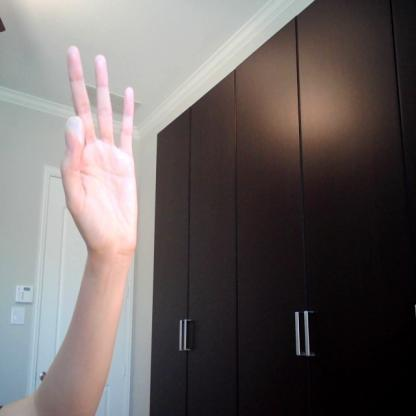nine: (58, 43, 140, 265)
